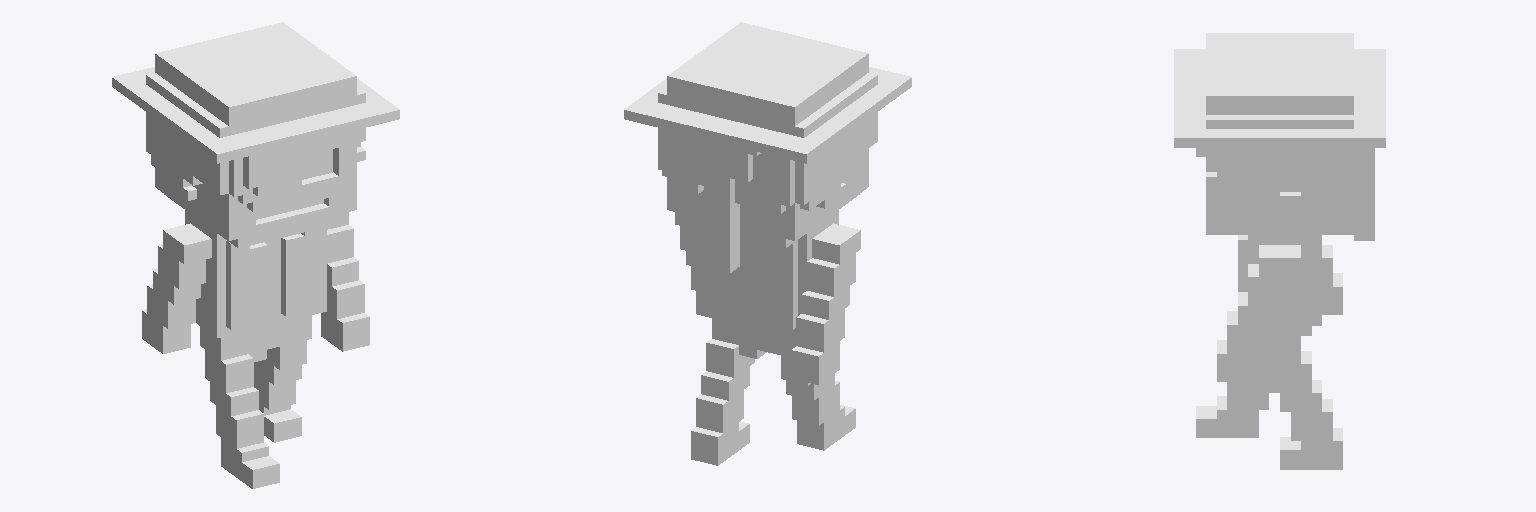
The model's file is pirate1_walk_1.obj.
3 renders of one model, left to right at view 1: azimuth 30°, elevation 25°; view 2: azimuth 150°, elevation 25°; view 3: azimuth 270°, elevation 25°, orthographic.
Parts seen in each view (by area): view 1: object 1; view 2: object 1; view 3: object 1.
Boxes of the visible parts, x1=… form: object 1: x1=112, y1=22, x2=399, y2=488; object 1: x1=624, y1=22, x2=911, y2=465; object 1: x1=1174, y1=33, x2=1385, y2=469.
Bounding box in the file's own units: 2 × 4 × 2.